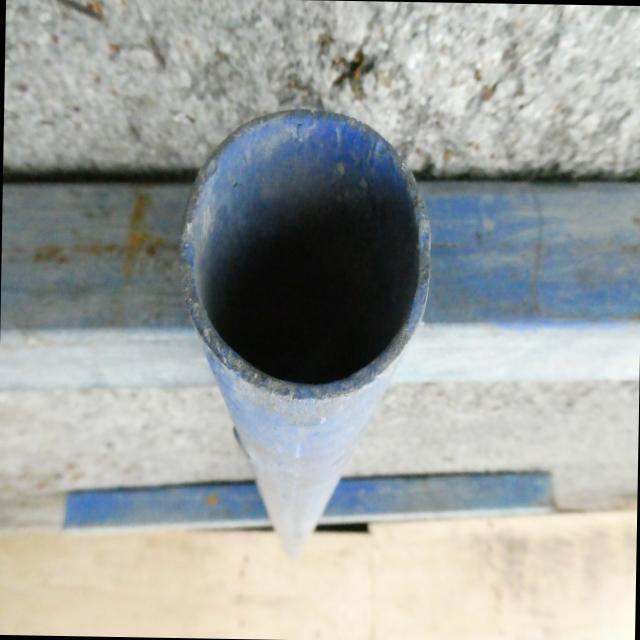pipe: (179, 107, 432, 391)
